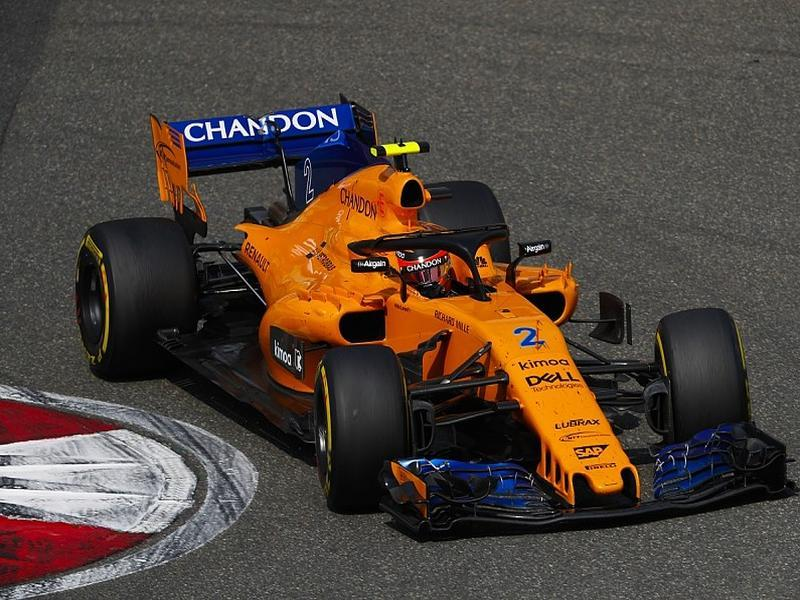racecar: (70, 104, 789, 516)
